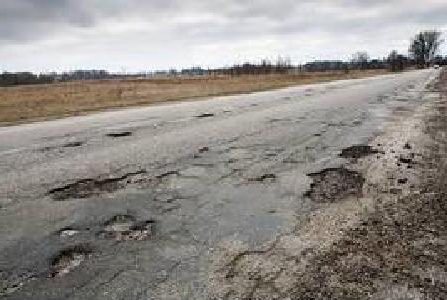pothole: (45, 165, 145, 200), (303, 166, 368, 204), (96, 213, 154, 243), (45, 244, 92, 279), (336, 142, 382, 160), (55, 225, 82, 236)
